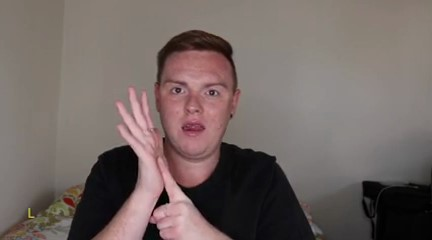L: (113, 85, 209, 240)
